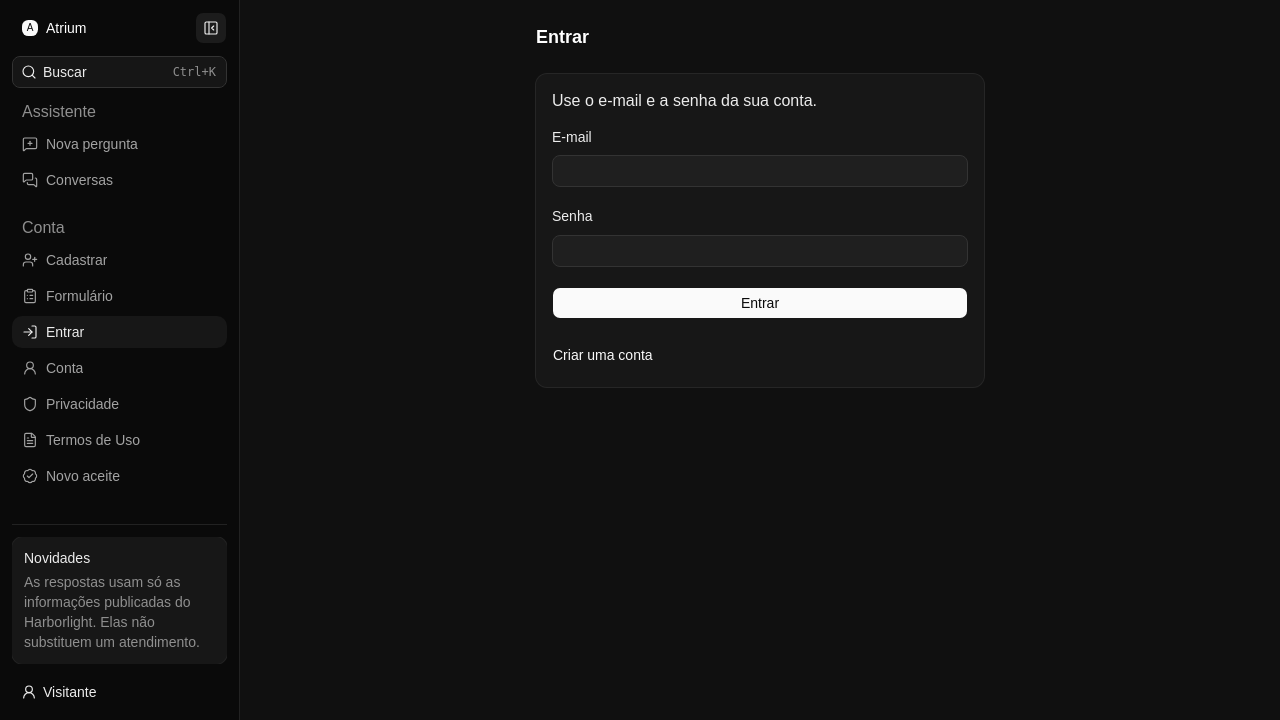
it: entrar › ignora um returnTo externo
Type "admin@example.com" into the field labelled "E-mail". click: [760, 171]
box: [552,155,968,187]
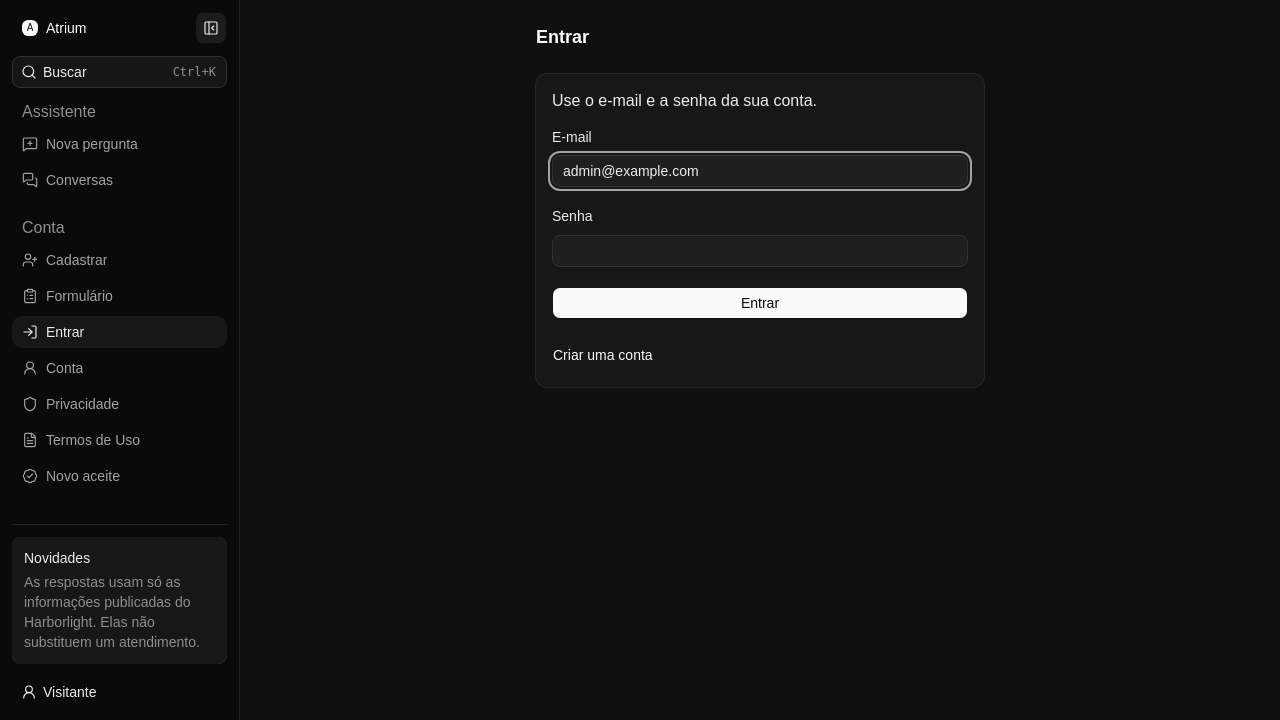
Type "correct-horse-1" into the password field labelled "Senha". click: [760, 250]
box: [552,234,968,266]
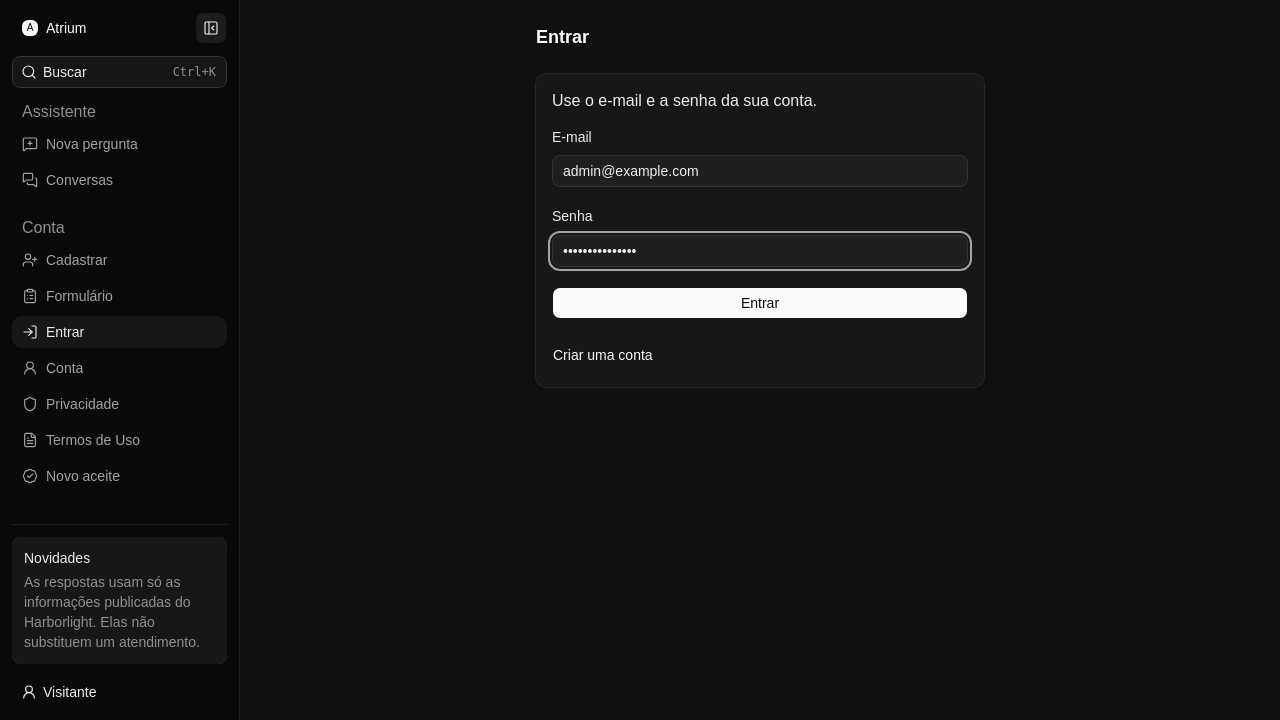
Click the button "Entrar". click: [760, 302]
box: [552,286,968,318]
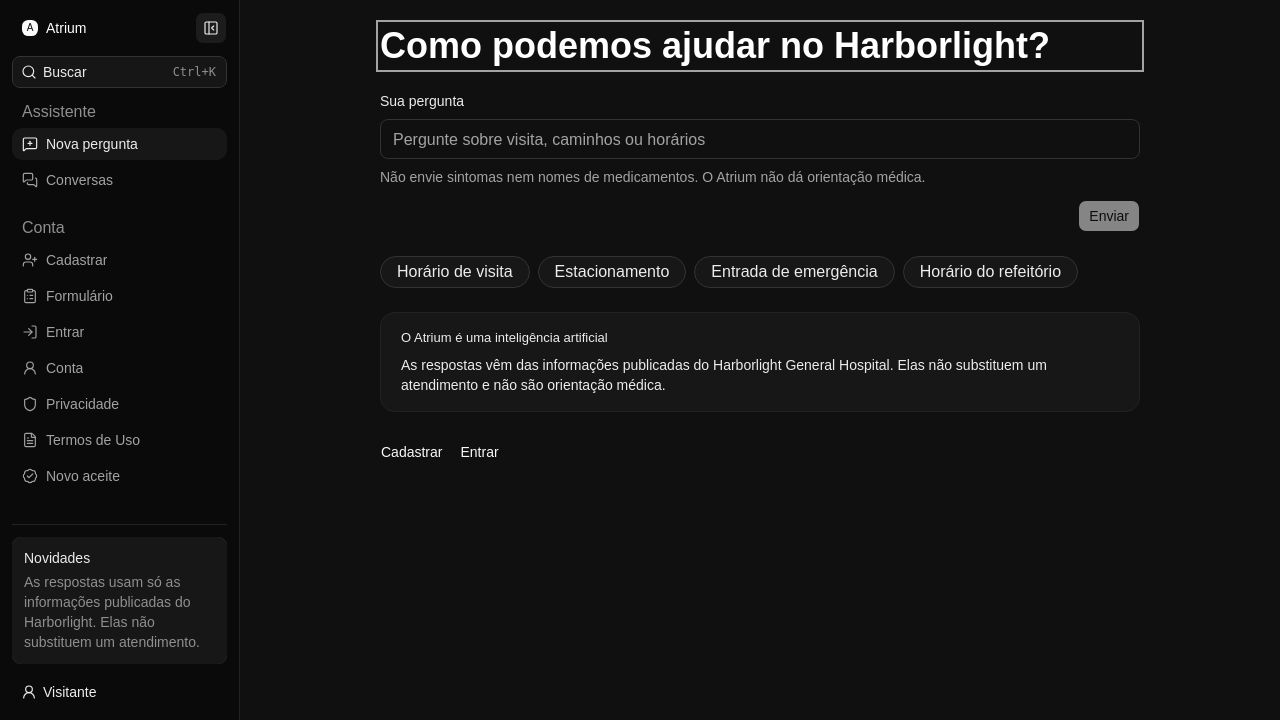
Result: the heading "Como podemos ajudar no Harborlight?" is shown at [380,24,1140,68]
